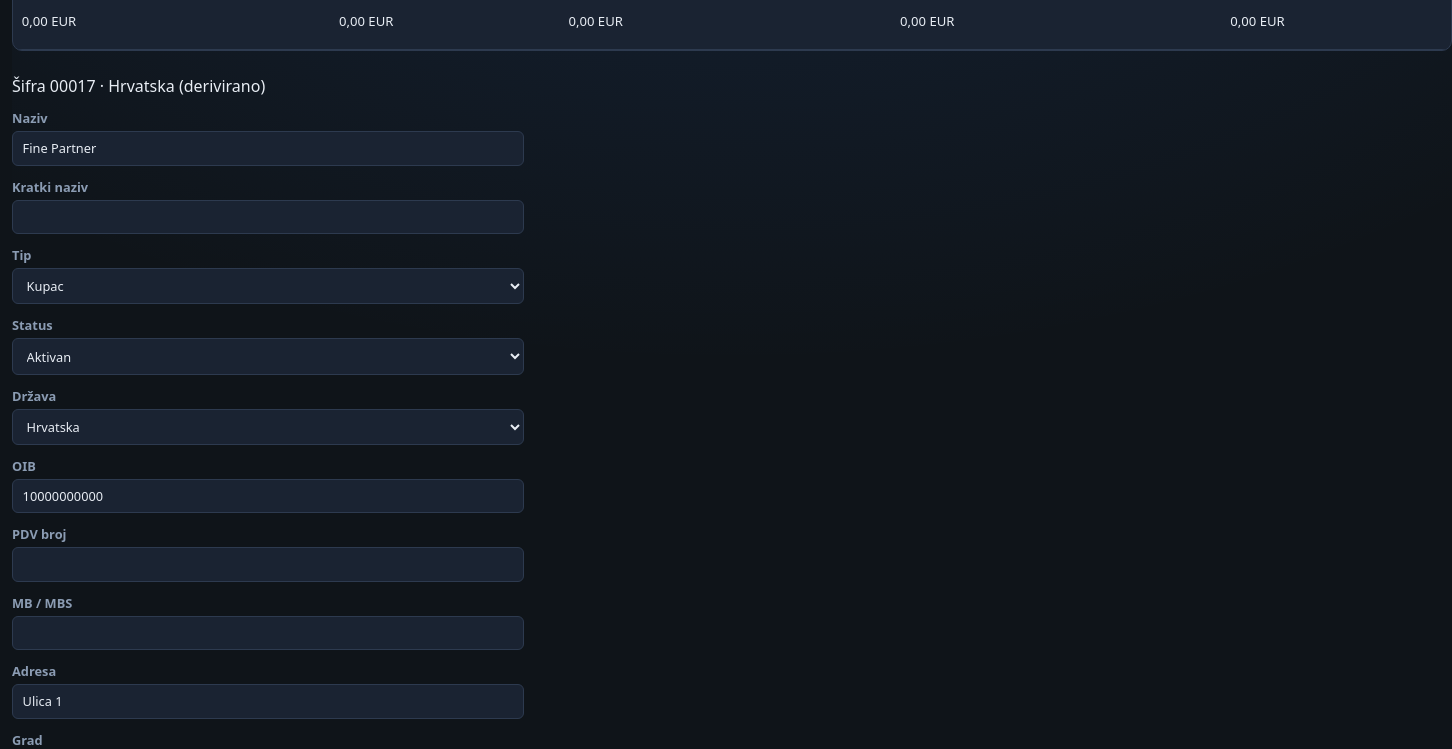
Test case: PartnerOverview › maps 409 tax conflict onto tax_number field
This screenshot has width=1452, height=749.
Replace the text in the field labelled "OIB" with "20000000009" at point(268, 496), box top-left (12, 479), bottom-right (524, 514)
(page scrolled)
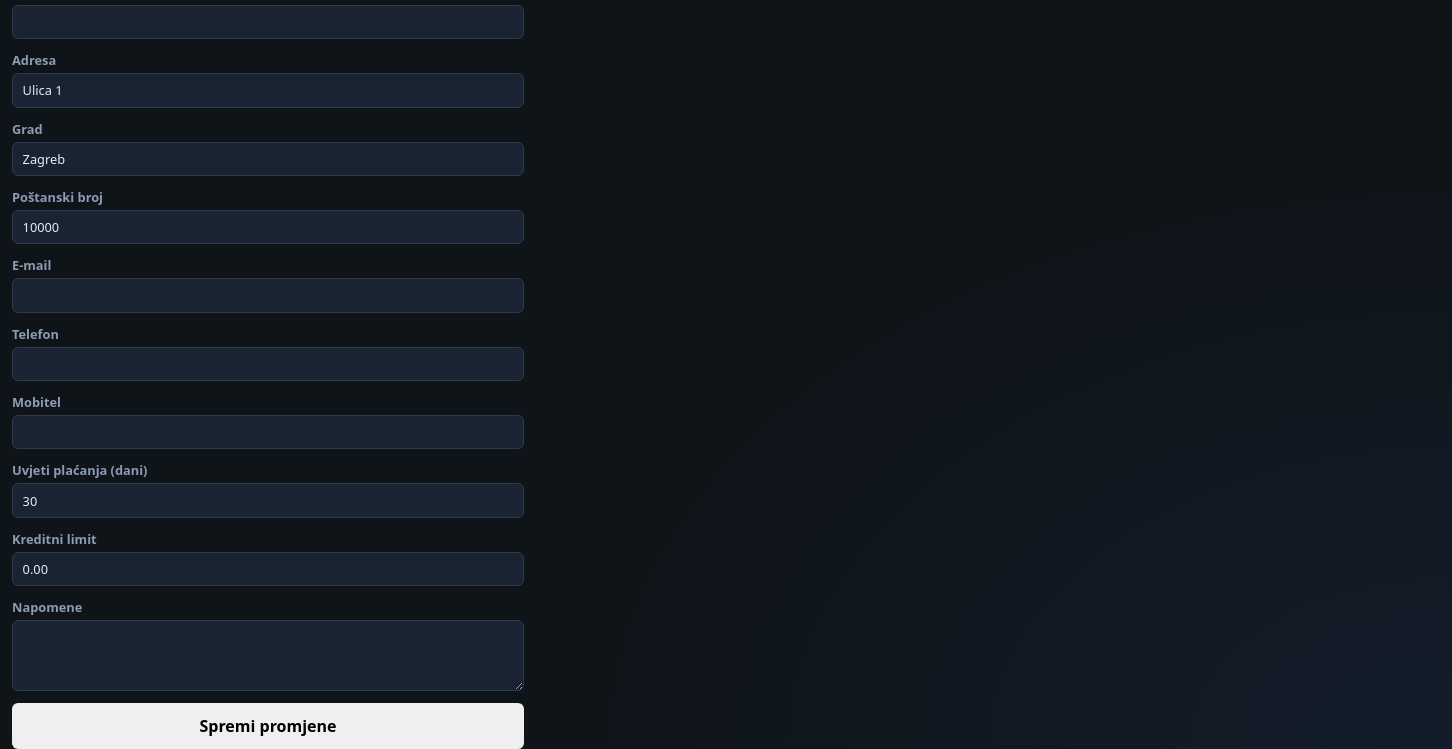
Click the button "Spremi promjene" at point(268, 726), box top-left (12, 703), bottom-right (524, 748)
(page scrolled)
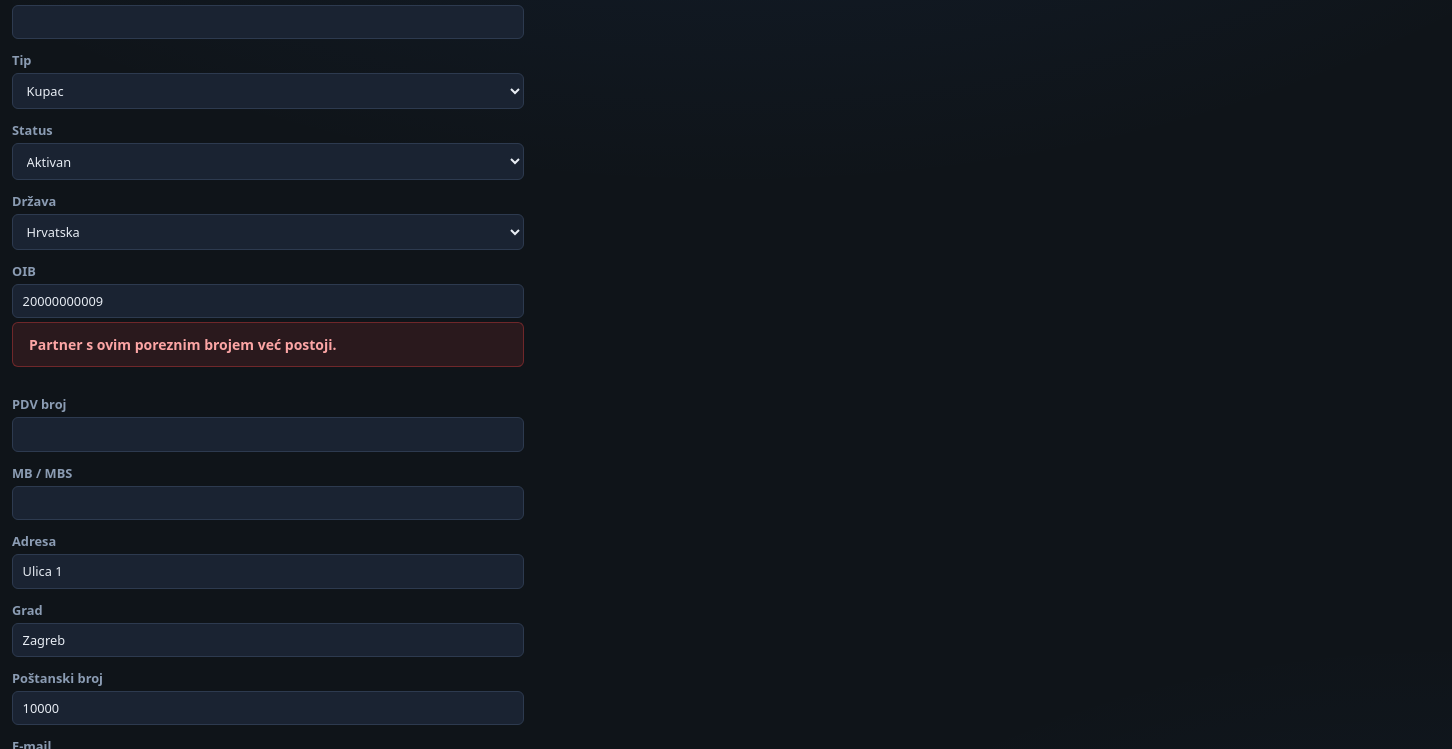
Check: the text "Partner s ovim poreznim brojem već postoji." is shown, box top-left (12, 322), bottom-right (524, 367)
